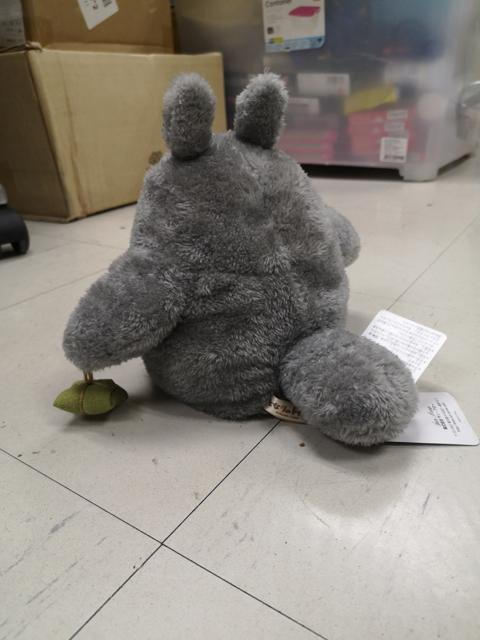totoro: (42, 65, 428, 460)
